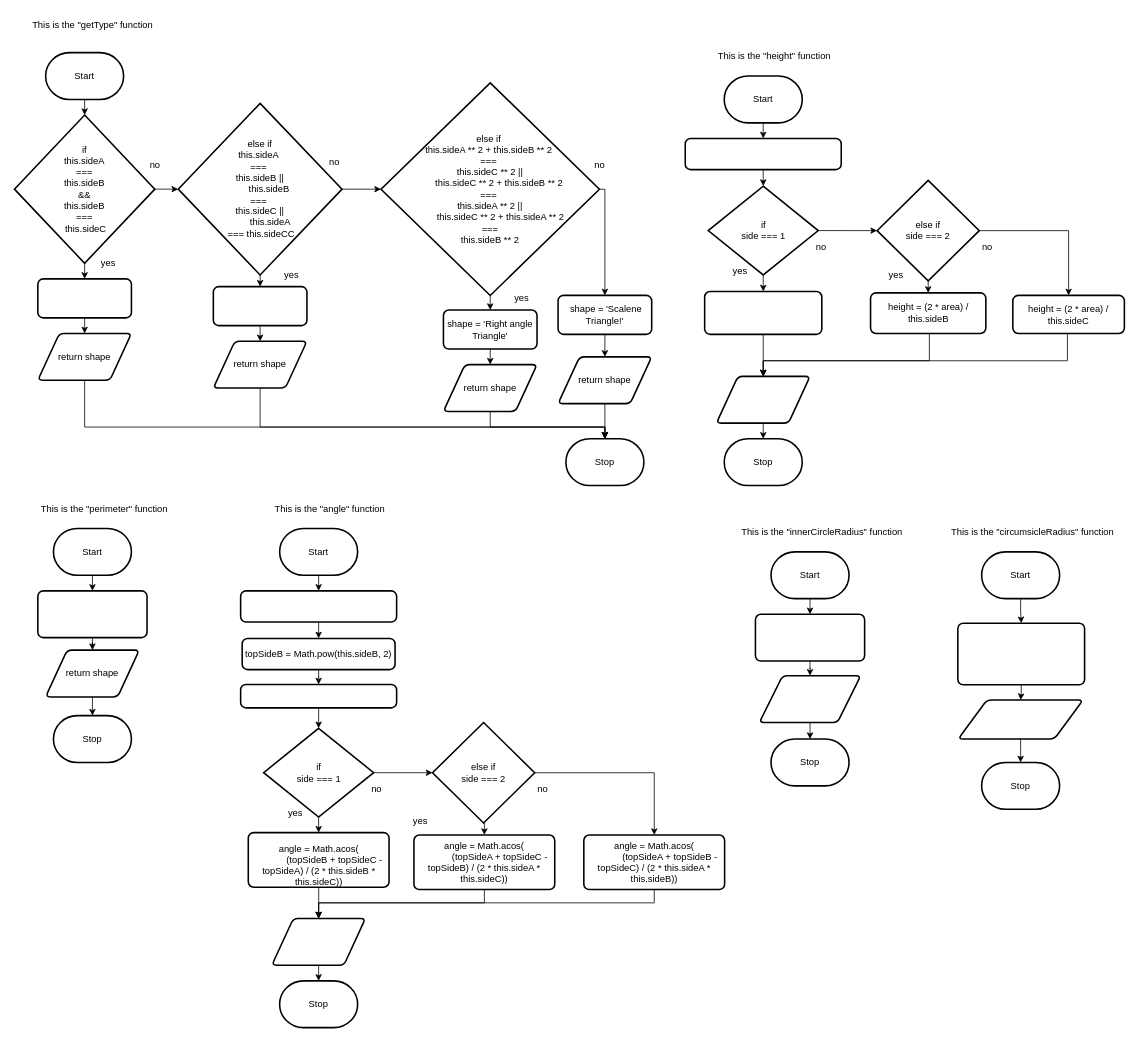
Image size: 1138x1041. Some labels were removed from this diagram. The centre of each missing label's shape, as x and y in pixels:
area = this.area(): point 763,153
circumRadius = (this.sideA * this.sideB * this.sideC) / (4 * this.area()): point 1021,653
height = (2 * area) / this.sideA: point 762,312
innerCircle = this.area() / this.semiPerimeter(): point 809,637
perimeter = this.sideA + this.sideB + this.sideC: point 92,614
return angle: point 318,941
return circumRadius: point 1020,719
return height: point 762,399
return innerCircle: point 809,699
shape = 'Equilateral Triangle': point 84,298
shape = 'Isosceles Triangle': point 259,305
topSideA = Math.pow(this.sideA, 2): point 318,606
topSideC = Math.pow(this.sideC, 2): point 318,695
